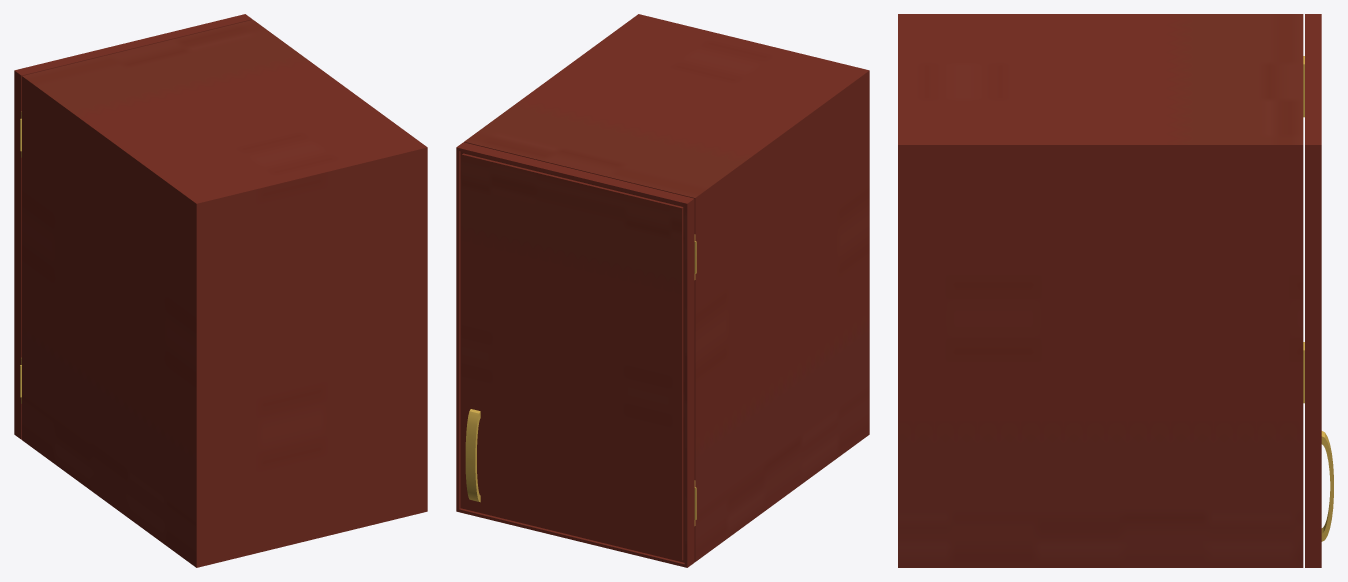
The model's file is CabinetF05.glb.
The picture shows the model from 3 angles, left to right: view 1: azimuth 30°, elevation 25°; view 2: azimuth 150°, elevation 25°; view 3: azimuth 270°, elevation 25°; orthographic projection. The views are drawn at different scales.
Parts seen in each view (by area): view 1: CabinetF05_model, CabinetF05Door; view 2: CabinetF05_model, CabinetF05Door; view 3: CabinetF05_model, CabinetF05Door.
Boxes of the visible parts, x1,y1,x2,y2 form: CabinetF05_model: [20, 20, 427, 567]; CabinetF05Door: [14, 14, 252, 439]; CabinetF05_model: [464, 14, 869, 561]; CabinetF05Door: [456, 142, 696, 567]; CabinetF05_model: [898, 14, 1304, 567]; CabinetF05Door: [1304, 14, 1333, 567].
Size of the model in its own units: 0.9256 by 1.39 by 1.29.
1 material, 1 textured.
